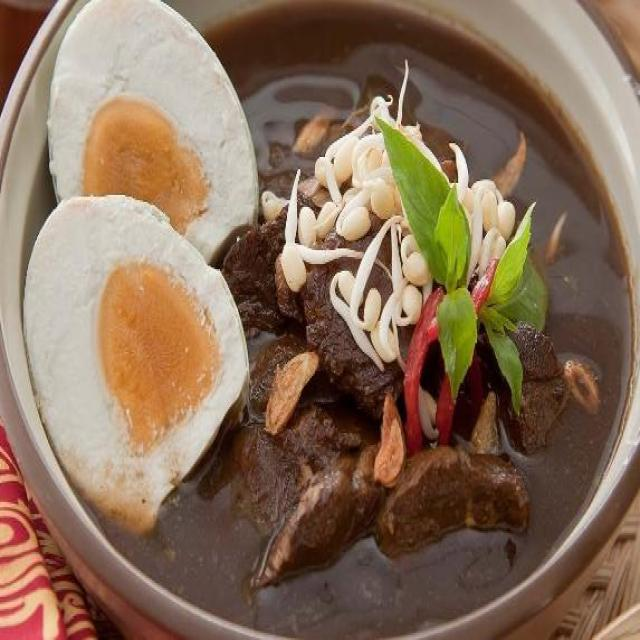Rawon: (50, 0, 606, 613)
